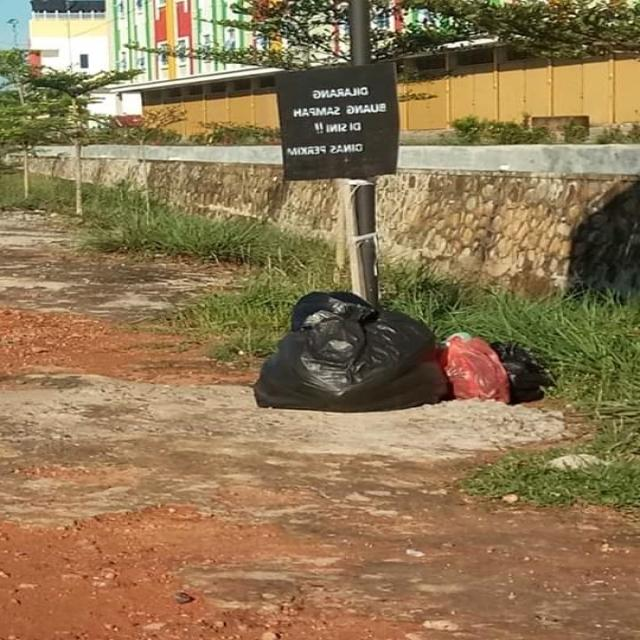sampah-detection: (253, 286, 457, 414), (430, 333, 553, 402)
